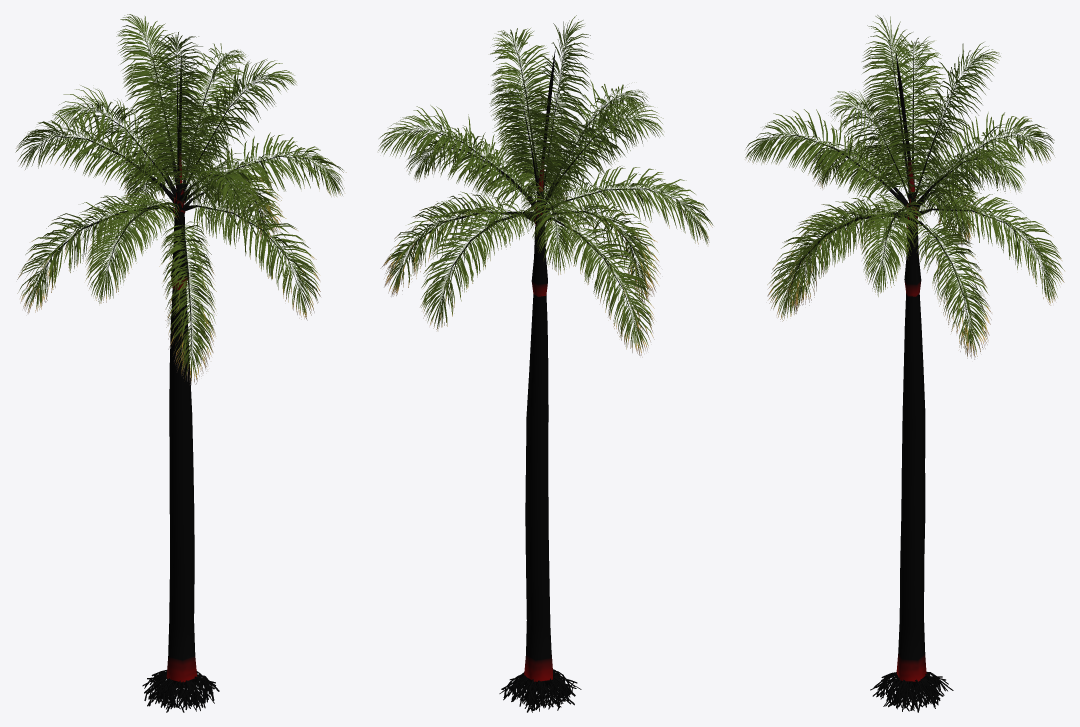
File: palm_royal_far.glb
3 renders of one model, left to right at view 1: azimuth 30°, elevation 25°; view 2: azimuth 150°, elevation 25°; view 3: azimuth 270°, elevation 25°, orthographic.
Visible parts, largest first — view 1: Roystonea_regia_HD; view 2: Roystonea_regia_HD; view 3: Roystonea_regia_HD.
Part boxes in pixels (x1=…): Roystonea_regia_HD: x1=15, y1=14, x2=346, y2=712; Roystonea_regia_HD: x1=378, y1=15, x2=713, y2=712; Roystonea_regia_HD: x1=745, y1=15, x2=1064, y2=712.
Bounding box in the file's own units: 7.5 × 17.09 × 7.35.
8 materials, 8 textured.
